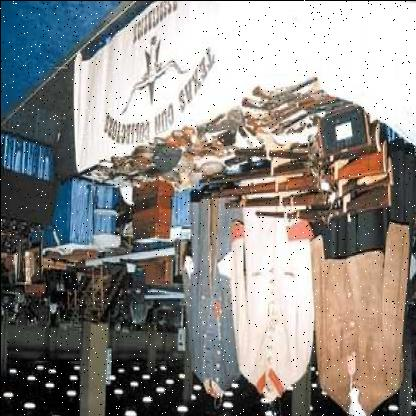rifle: (250, 178, 399, 234)
